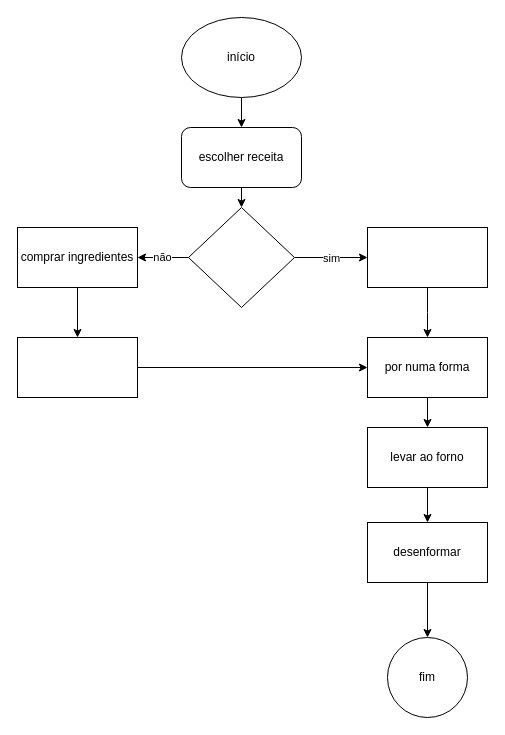
The diagram is 505 pixels wide and 735 high, and some of its shapes have lost their labels. The shapes that lost their labels are listed below. From the top down, each one's centre as x and y in pixels, then its label:
the point at 241,257: tem ingredientes?
the point at 427,257: misturar ingredientes
the point at 77,367: misturar os ingredientes
